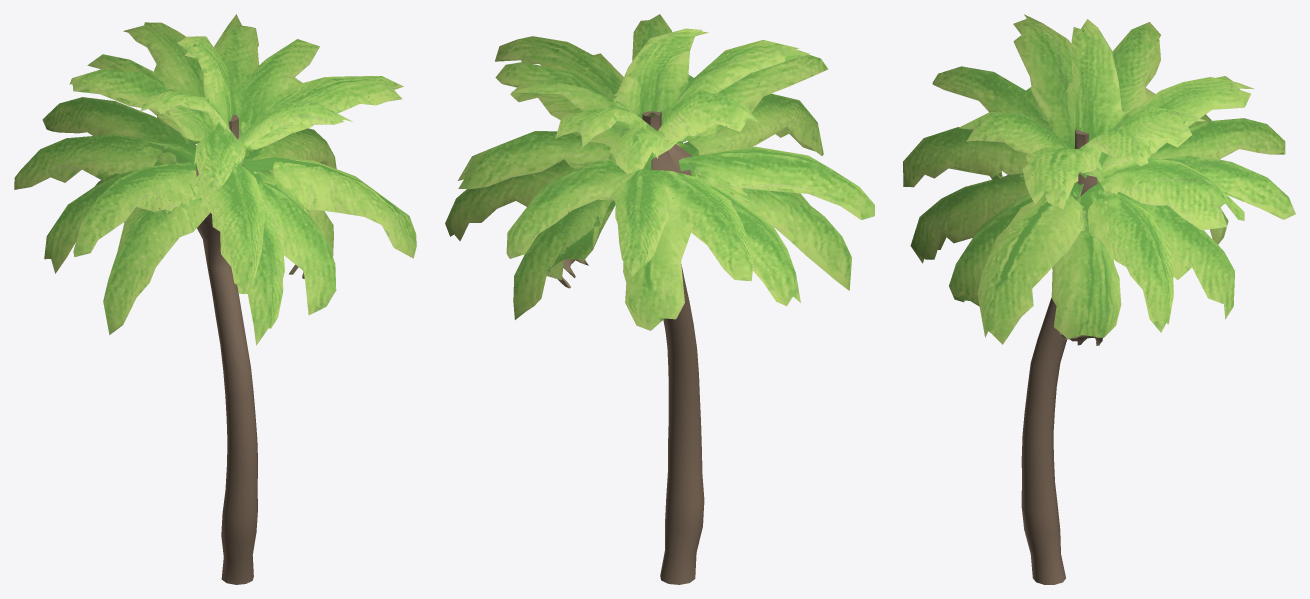
File: palm_b.glb
The picture shows the model from 3 angles, left to right: view 1: azimuth 30°, elevation 25°; view 2: azimuth 150°, elevation 25°; view 3: azimuth 270°, elevation 25°; orthographic projection. The views are drawn at different scales.
Parts seen in each view (by area): view 1: body; view 2: body; view 3: body.
Part boxes in pixels (x1,y1,x2,y2): body: (14, 14, 416, 584); body: (445, 14, 874, 584); body: (903, 14, 1295, 584).
Bounding box in the file's own units: 4.34 × 6.5 × 4.3.
Materials: 2 (2 with a texture image).
